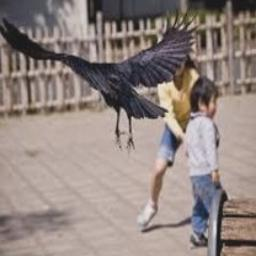Crow: (0, 7, 201, 151)
